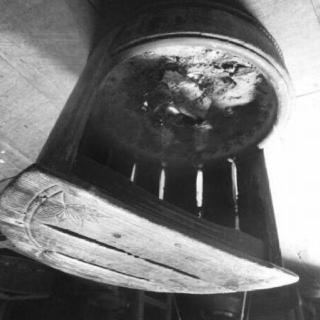Fire: (162, 99, 188, 125)
